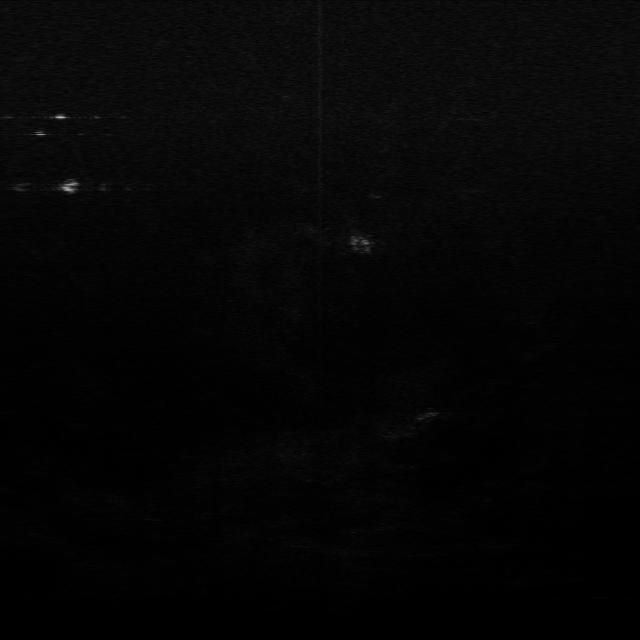rov: (56, 178, 83, 195)
